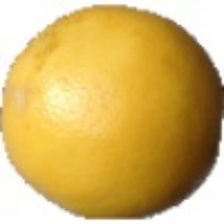grapes: (33, 15, 222, 212)
